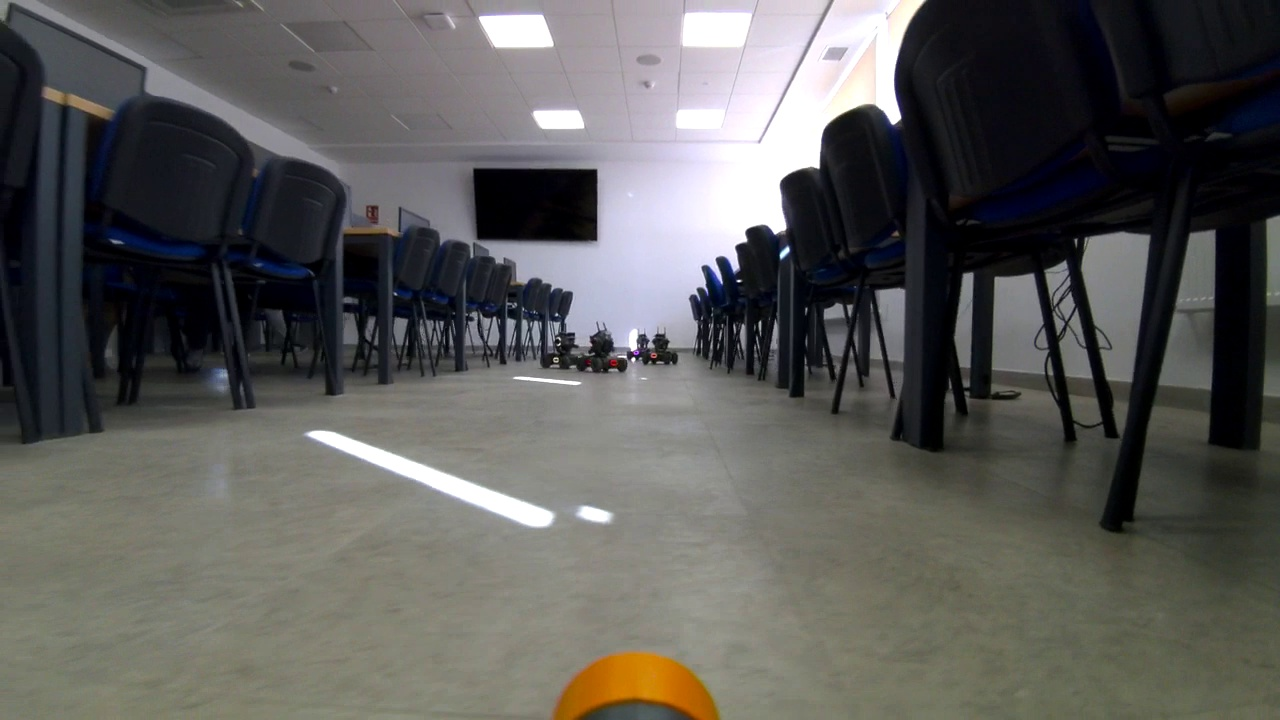robot: (583, 322, 629, 373), (542, 328, 581, 372), (642, 329, 676, 360)
